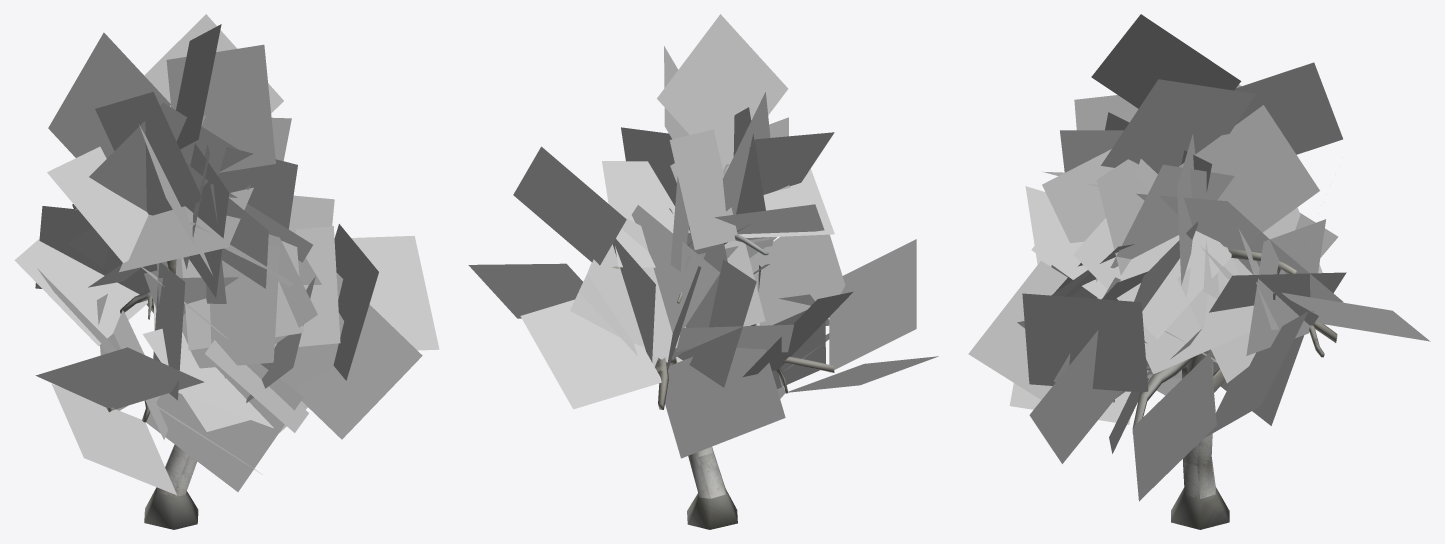
Rendered from deadtree1test 3.fbx.
The picture shows the model from 3 angles, left to right: view 1: azimuth 30°, elevation 25°; view 2: azimuth 150°, elevation 25°; view 3: azimuth 270°, elevation 25°; orthographic projection. The views are drawn at different scales.
Visible parts, largest first — view 1: Plane.003, Plane.015, Cube|Plane|Dupli|22, Plane.012, Plane.009, Plane.024, Plane.027, Cube|Plane|Dupli|59, Plane.017, Plane.062, Cube|Plane|Dupli|39, Cube|Plane|Dupli|27 (+37 smaller); view 2: Cube|Plane|Dupli|2, Plane.040, Cube|Plane|Dupli|46, Cube|Plane|Dupli|6, Cube|Plane|Dupli|5, Cube|Plane|Dupli|54, Cube|Plane|Dupli|43, Cube, Cube|Plane|Dupli|35, Cube|Plane|Dupli|9, Cube|Plane|Dupli|19, Cube|Plane|Dupli|41 (+25 smaller); view 3: Plane.011, Cube|Plane|Dupli|, Plane.054, Plane.012, Cube, Plane.005, Cube|Plane|Dupli|24, Plane.004, Cube|Plane|Dupli|12, Cube|Plane|Dupli|30, Cube|Plane|Dupli|45, Cube|Plane|Dupli|4 (+25 smaller).
Part boxes in pixels (x1,y1,x2,y2): Plane.003: (166,44,275,172); Plane.015: (294,273,422,439); Cube|Plane|Dupli|22: (182,245,280,368); Plane.012: (351,235,439,350); Plane.009: (35,347,203,409); Plane.024: (47,146,148,262); Plane.027: (48,44,132,158); Cube|Plane|Dupli|59: (194,364,303,491); Plane.017: (89,102,238,211); Plane.062: (146,363,299,482); Cube|Plane|Dupli|39: (14,242,138,345); Cube|Plane|Dupli|27: (104,92,203,207); Cube|Plane|Dupli|2: (657,15,779,170); Plane.040: (520,299,661,408); Cube|Plane|Dupli|46: (659,347,785,445); Cube|Plane|Dupli|6: (829,239,916,372); Cube|Plane|Dupli|5: (513,146,626,265); Cube|Plane|Dupli|54: (749,234,845,325); Cube|Plane|Dupli|43: (570,217,679,362); Cube: (612,164,834,529); Cube|Plane|Dupli|35: (631,205,719,360); Cube|Plane|Dupli|9: (468,263,582,318); Cube|Plane|Dupli|19: (602,161,689,267); Cube|Plane|Dupli|41: (677,259,756,387); Plane.011: (1022,293,1148,392); Cube|Plane|Dupli|: (1101,79,1255,173); Plane.054: (1179,105,1319,223); Plane.012: (1132,352,1216,501); Cube: (1113,248,1337,529); Plane.005: (1091,23,1241,108); Cube|Plane|Dupli|24: (1235,63,1342,154); Plane.004: (1073,218,1211,337); Cube|Plane|Dupli|12: (1029,330,1121,463); Cube|Plane|Dupli|30: (968,261,1067,399); Cube|Plane|Dupli|45: (1246,219,1326,355); Cube|Plane|Dupli|4: (1110,164,1234,268).
Bounding box in the file's own units: 1875 × 2128 × 1739.
